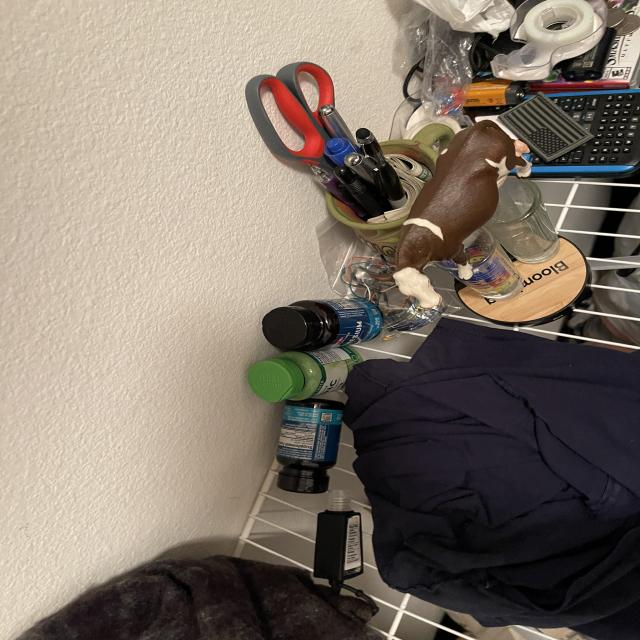cow: (373, 107, 540, 319)
